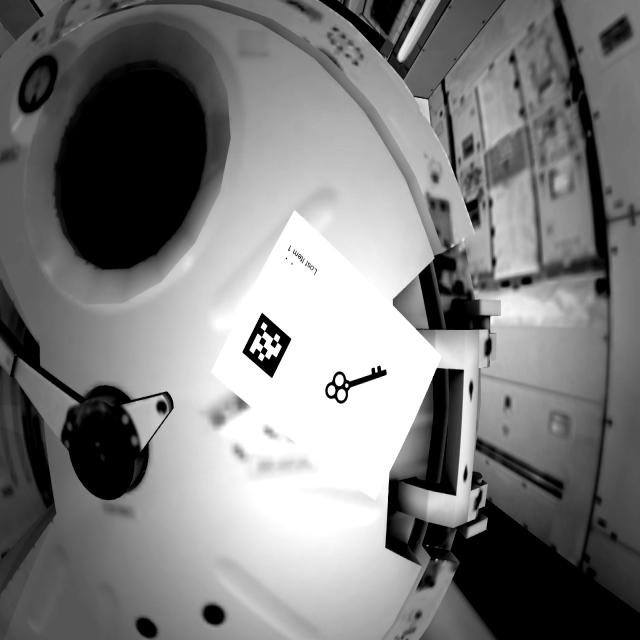key: (319, 356, 395, 407)
